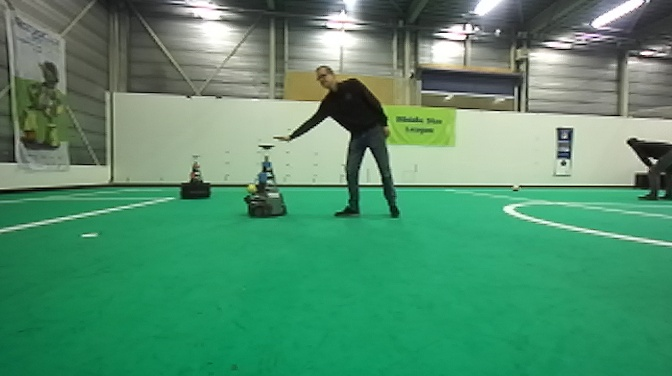ball: (244, 181, 258, 194), (509, 181, 521, 194)
human: (271, 64, 402, 220), (624, 134, 672, 202)
robot: (244, 143, 292, 220), (177, 153, 215, 201)
